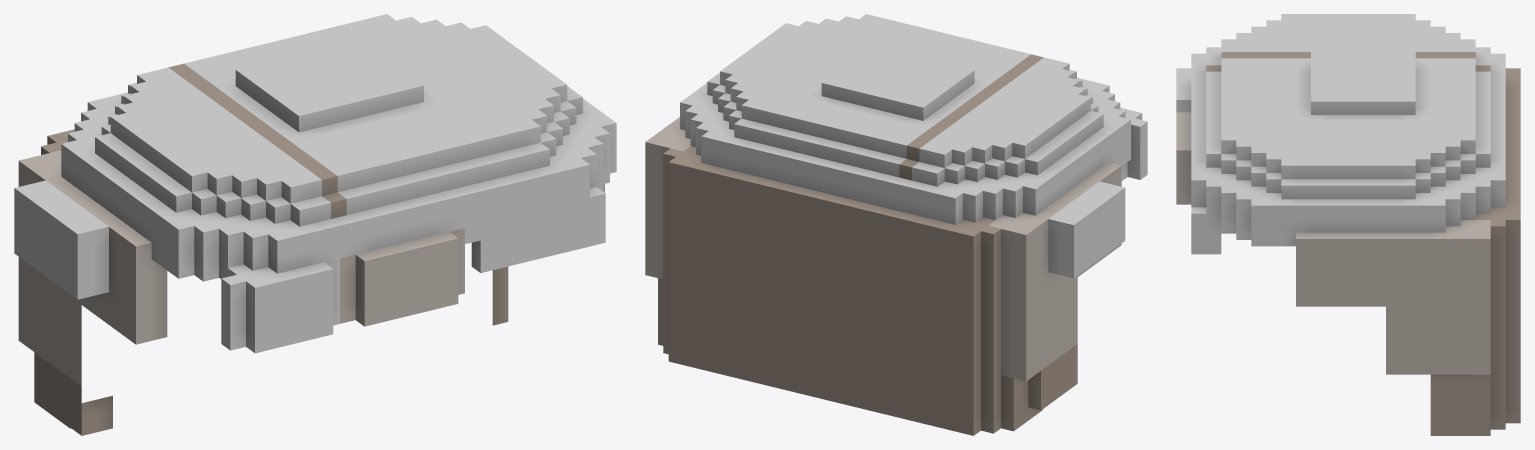
The model's file is hair_m_short_back.glb.
3 views of the same model, side by side, from view 1: azimuth 30°, elevation 25°; view 2: azimuth 150°, elevation 25°; view 3: azimuth 270°, elevation 25° (orthographic). The views are drawn at different scales.
Parts seen in each view (by area): view 1: VoxelVisual; view 2: VoxelVisual; view 3: VoxelVisual.
Boxes of the visible parts, bbox=[...] form: VoxelVisual: bbox=[14, 14, 616, 435]; VoxelVisual: bbox=[645, 14, 1147, 435]; VoxelVisual: bbox=[1176, 14, 1520, 435].
Size of what is drawn, in the model's own units: 2 by 1.25 by 1.44.
